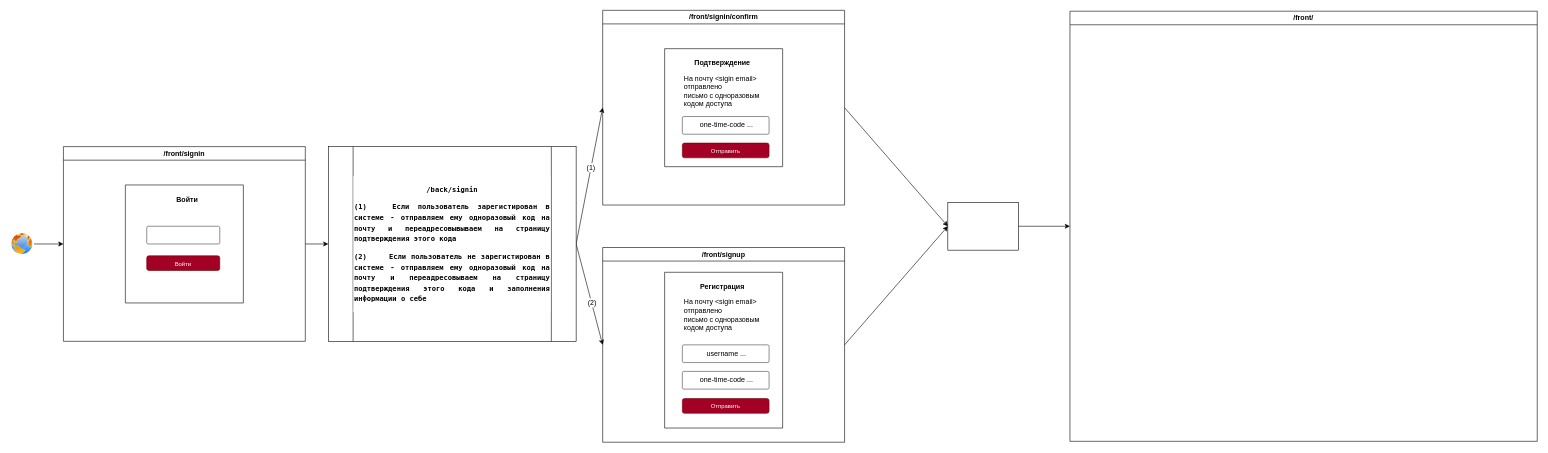
This 1548x453 diagram has some shape labels left out. Here are the shapes that lost their labels. From the top down, the centre of each, then its label:
point (183, 235): email ...
point (983, 226): Устанавливаем id сессии в cookies
